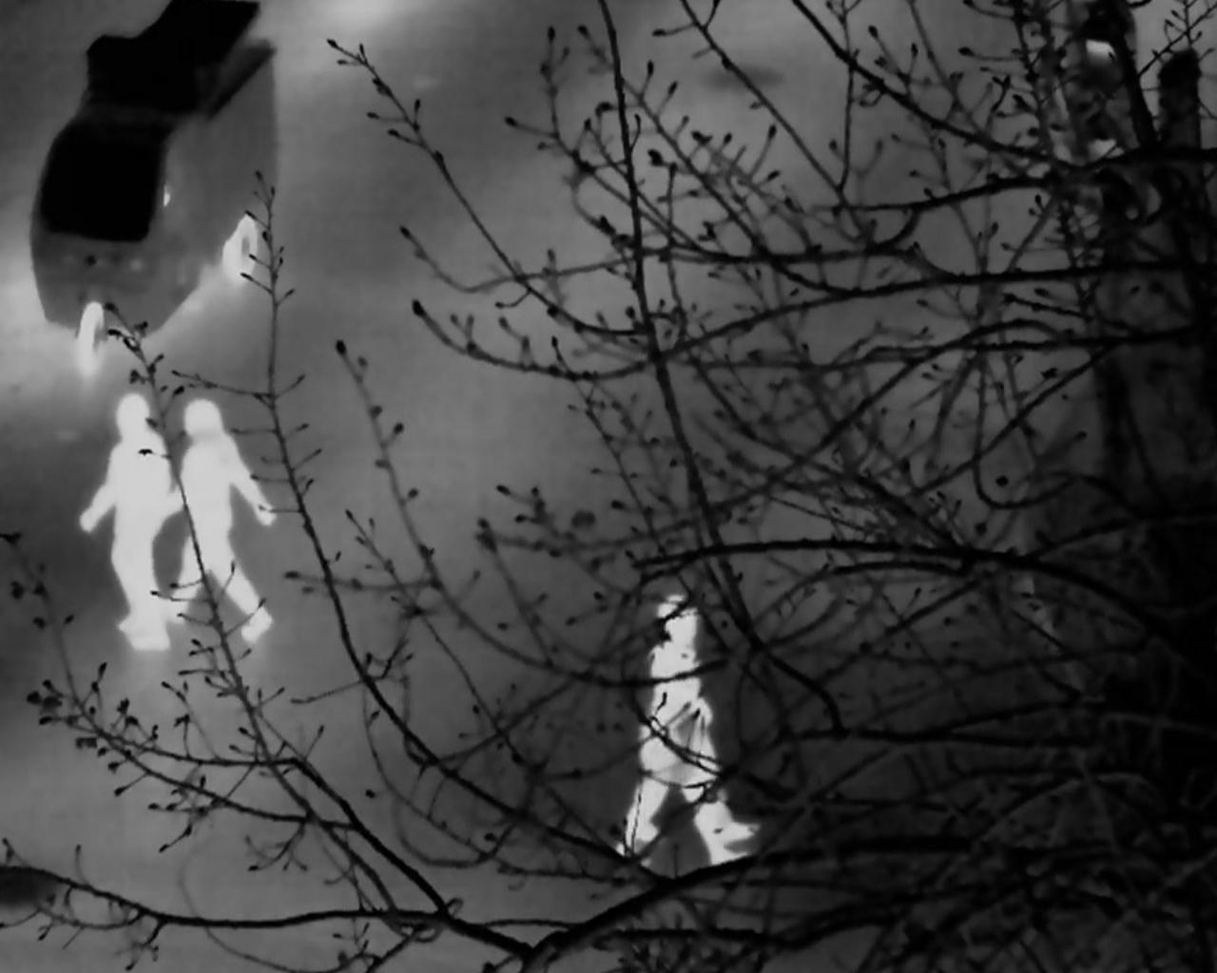person: (641, 610, 753, 877), (171, 399, 279, 641), (87, 391, 179, 635)
